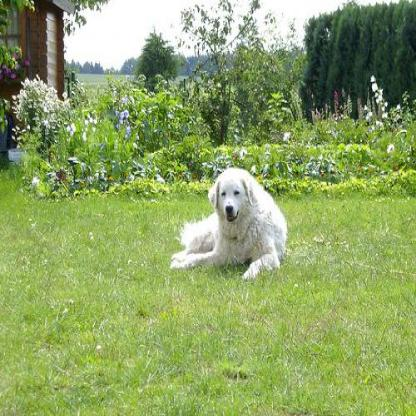kuvasz: (167, 164, 286, 280)
